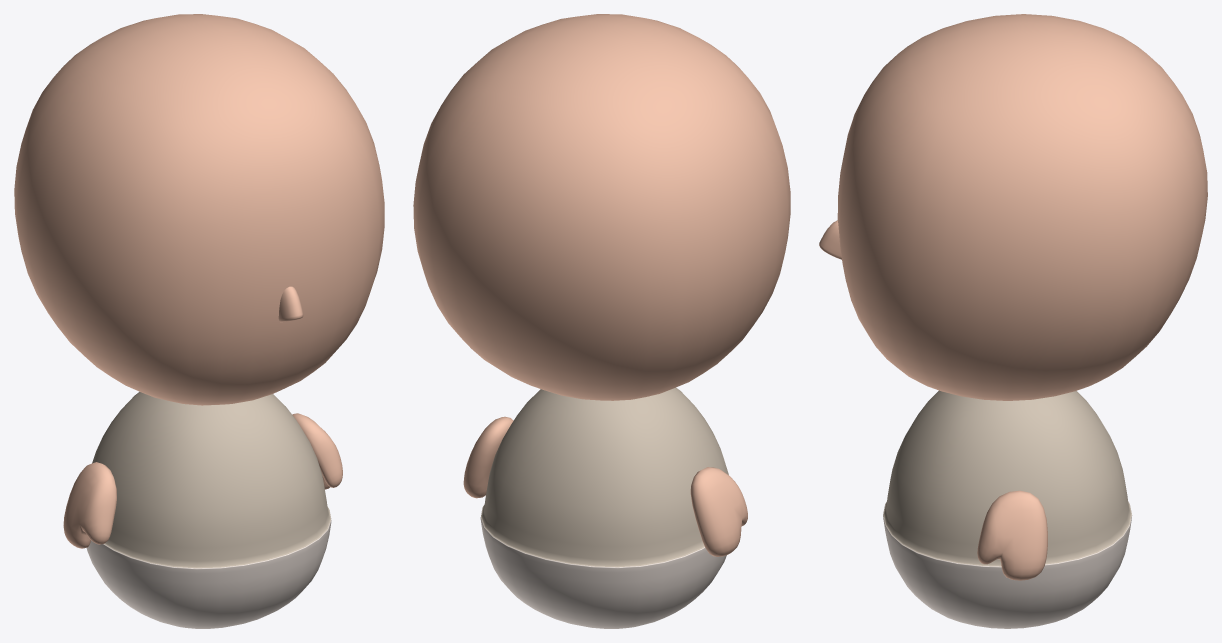
3 views of the same model, side by side, from view 1: azimuth 30°, elevation 25°; view 2: azimuth 150°, elevation 25°; view 3: azimuth 270°, elevation 25° (orthographic).
Parts seen in each view (by area): view 1: base; view 2: base; view 3: base.
Boxes of the visible parts, <box> form: base: <box>14,14,384,628</box>; base: <box>413,14,790,628</box>; base: <box>819,14,1207,628</box>.
Size of the model in its own units: 1.94 by 3.41 by 2.07.
